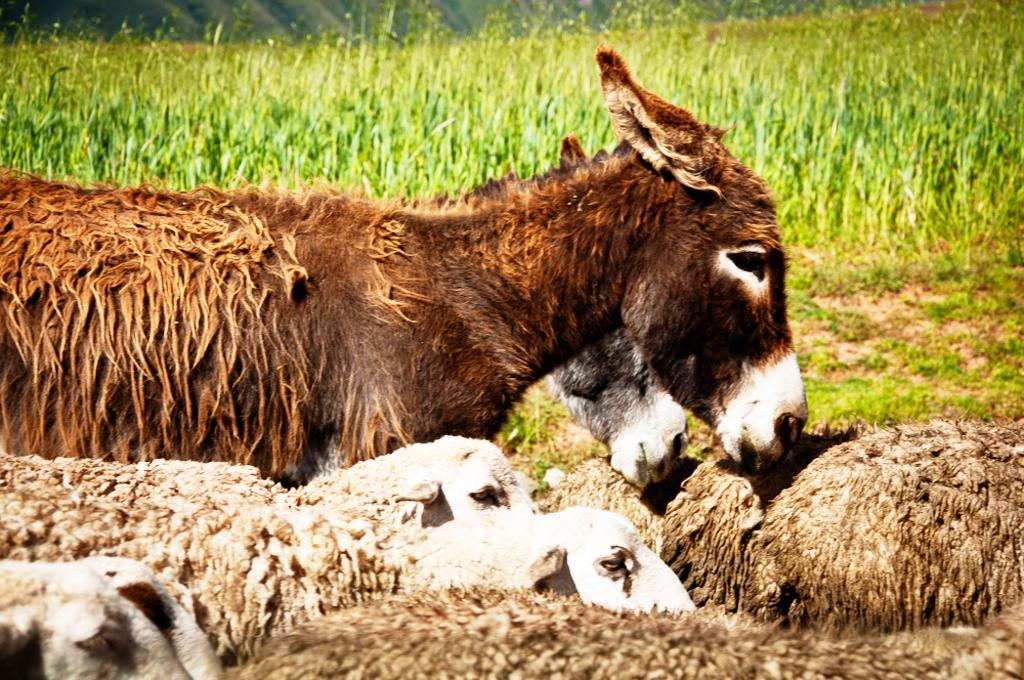Sheep: (0, 419, 710, 625), (59, 505, 703, 606), (0, 554, 233, 680)
